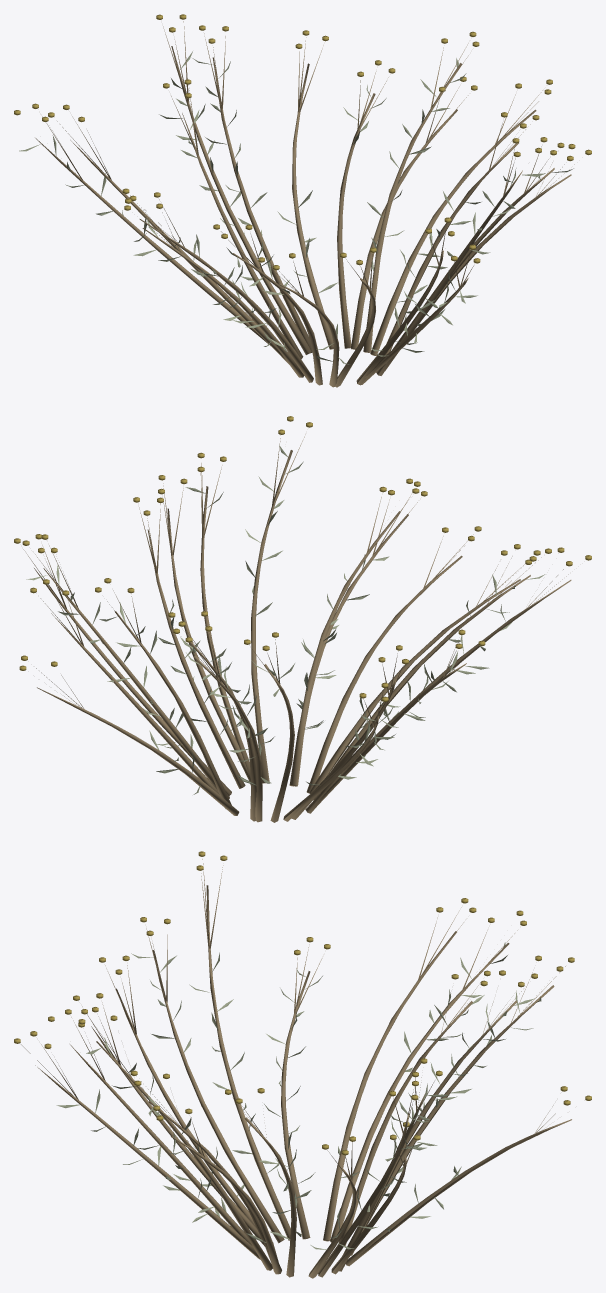
The model's file is Immortelle_2_Niveau1.fbx.
The picture shows the model from 3 angles, top to bottom: view 1: azimuth 30°, elevation 25°; view 2: azimuth 150°, elevation 25°; view 3: azimuth 270°, elevation 25°; orthographic projection. The views are drawn at different scales.
Parts seen in each view (by area): view 1: Immortelle_2_Niveau1; view 2: Immortelle_2_Niveau1; view 3: Immortelle_2_Niveau1.
Boxes of the visible parts, x1,y1,x2,y2 form: Immortelle_2_Niveau1: [14, 14, 591, 387]; Immortelle_2_Niveau1: [14, 416, 591, 822]; Immortelle_2_Niveau1: [14, 851, 591, 1278].
Bounding box in the file's own units: 59.72 × 31.9 × 58.7.
